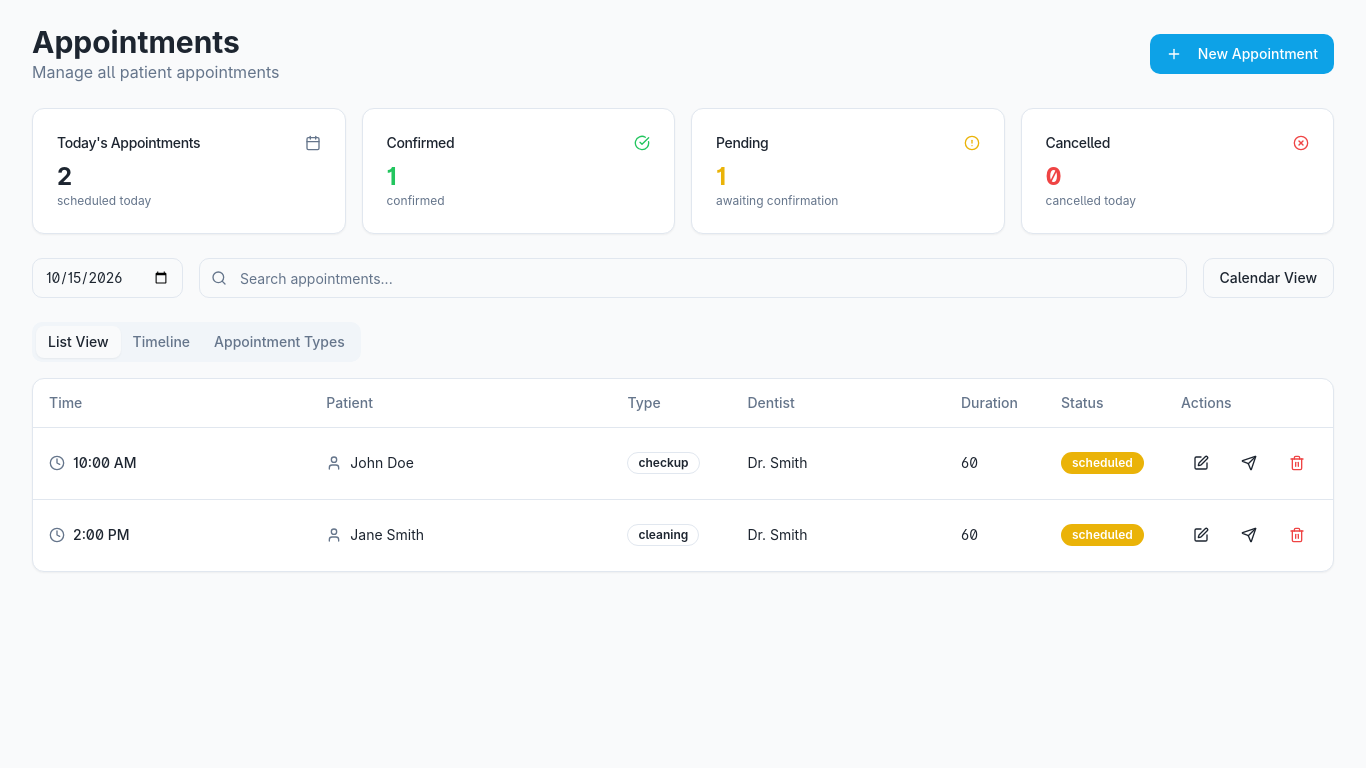
Test case: Appointments Page › should render appointments page with the table view as default
Expected: the text "John Doe" is shown, [326, 454, 414, 471]
# Toggling switches to the calendar view
Click the button with test id "filter-button" at coordinates (1268, 278), box [1202, 258, 1334, 298]
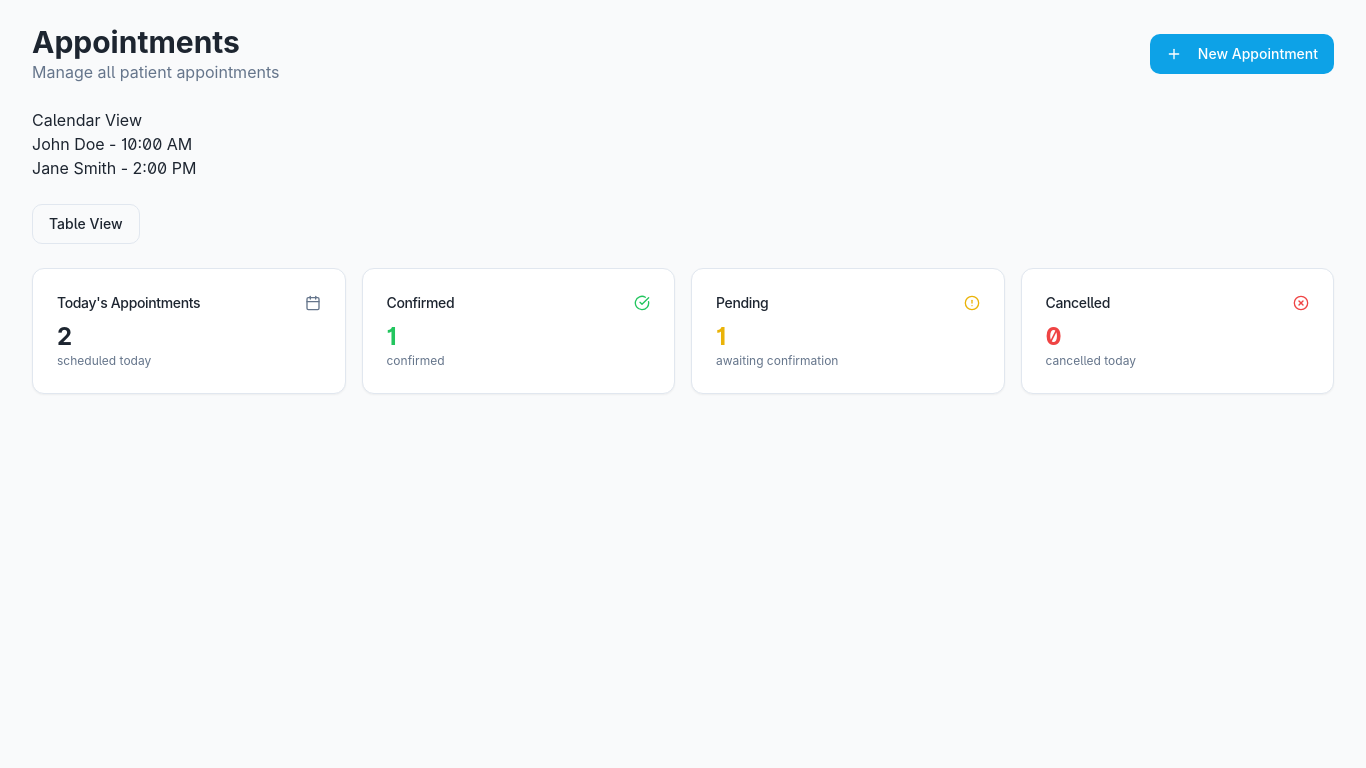
Expected: the text "Calendar View" is shown, [32, 110, 142, 130]
Expected: the element with test id "appointment-calendar" is shown, [32, 110, 196, 178]
